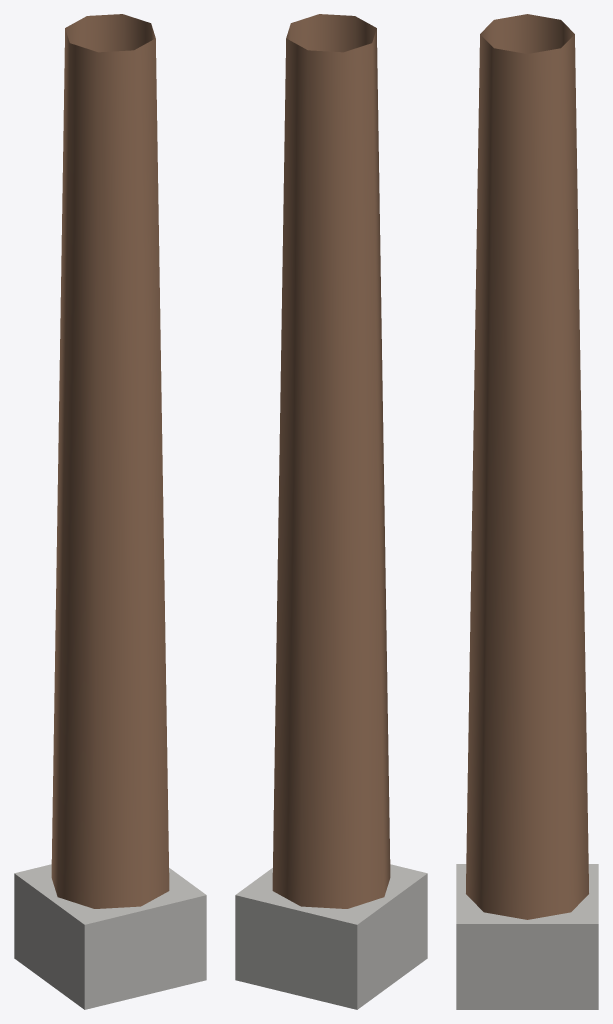
The model's file is wooden_column.glb.
3 renders of one model, left to right at view 1: azimuth 30°, elevation 25°; view 2: azimuth 150°, elevation 25°; view 3: azimuth 270°, elevation 25°, orthographic.
Parts seen in each view (by area): view 1: PillarShaft_Node, BaseStone_Node; view 2: PillarShaft_Node, BaseStone_Node; view 3: PillarShaft_Node, BaseStone_Node.
Part boxes in pixels (x1,y1,x2,y2): PillarShaft_Node: (51,14,169,908); BaseStone_Node: (14,864,206,1009); PillarShaft_Node: (272,14,390,908); BaseStone_Node: (235,864,427,1009); PillarShaft_Node: (466,14,588,919); BaseStone_Node: (456,864,598,1009).
Size of the model in its own units: 0.6 by 4.4 by 0.6.
